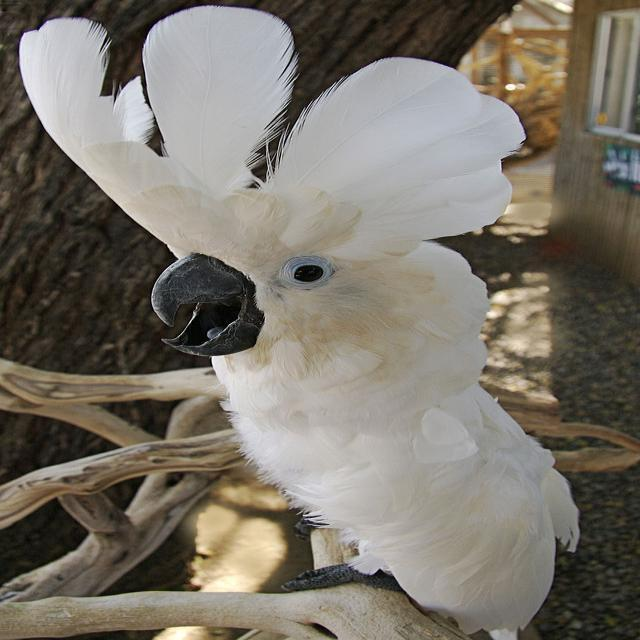Kakatua Putih: (8, 1, 630, 640)
